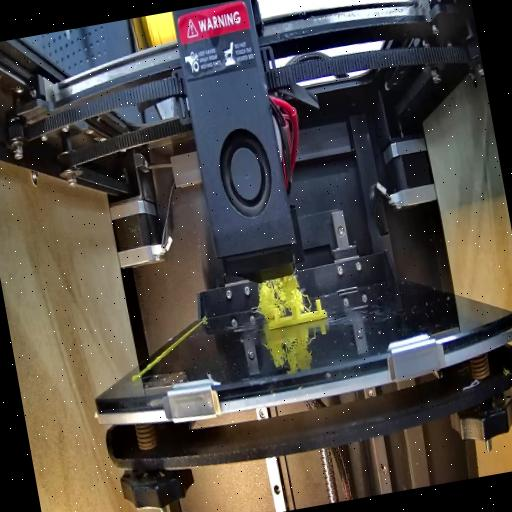spaghetti: (256, 272, 310, 322)
